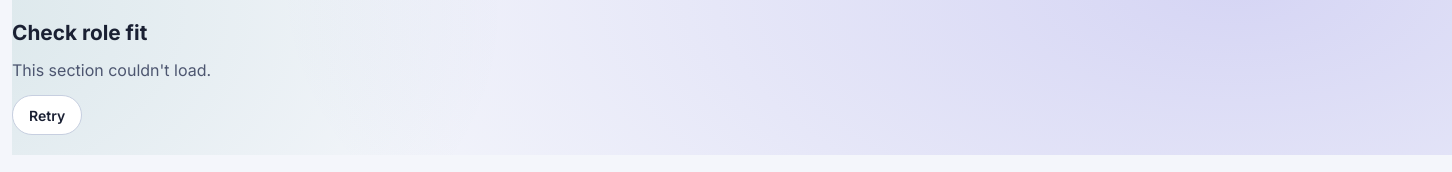
SectionBoundary › Retry calls onRetry and renders the section again
The width and height of the screenshot is (1452, 172).
Click the button "Retry".
click(47, 115)  # box [12,95,82,135]
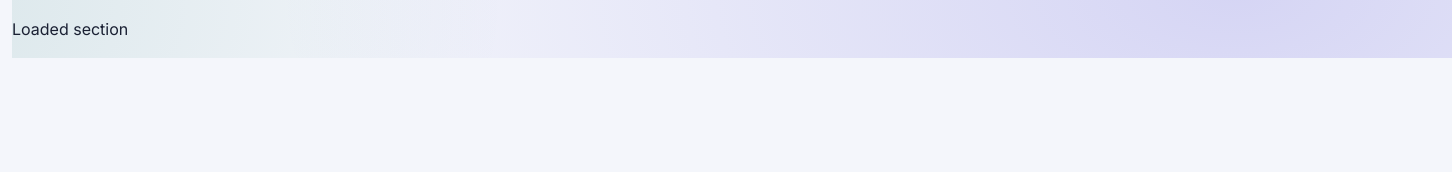
Now the text "Loaded section" is shown, box [12,19,128,39]
